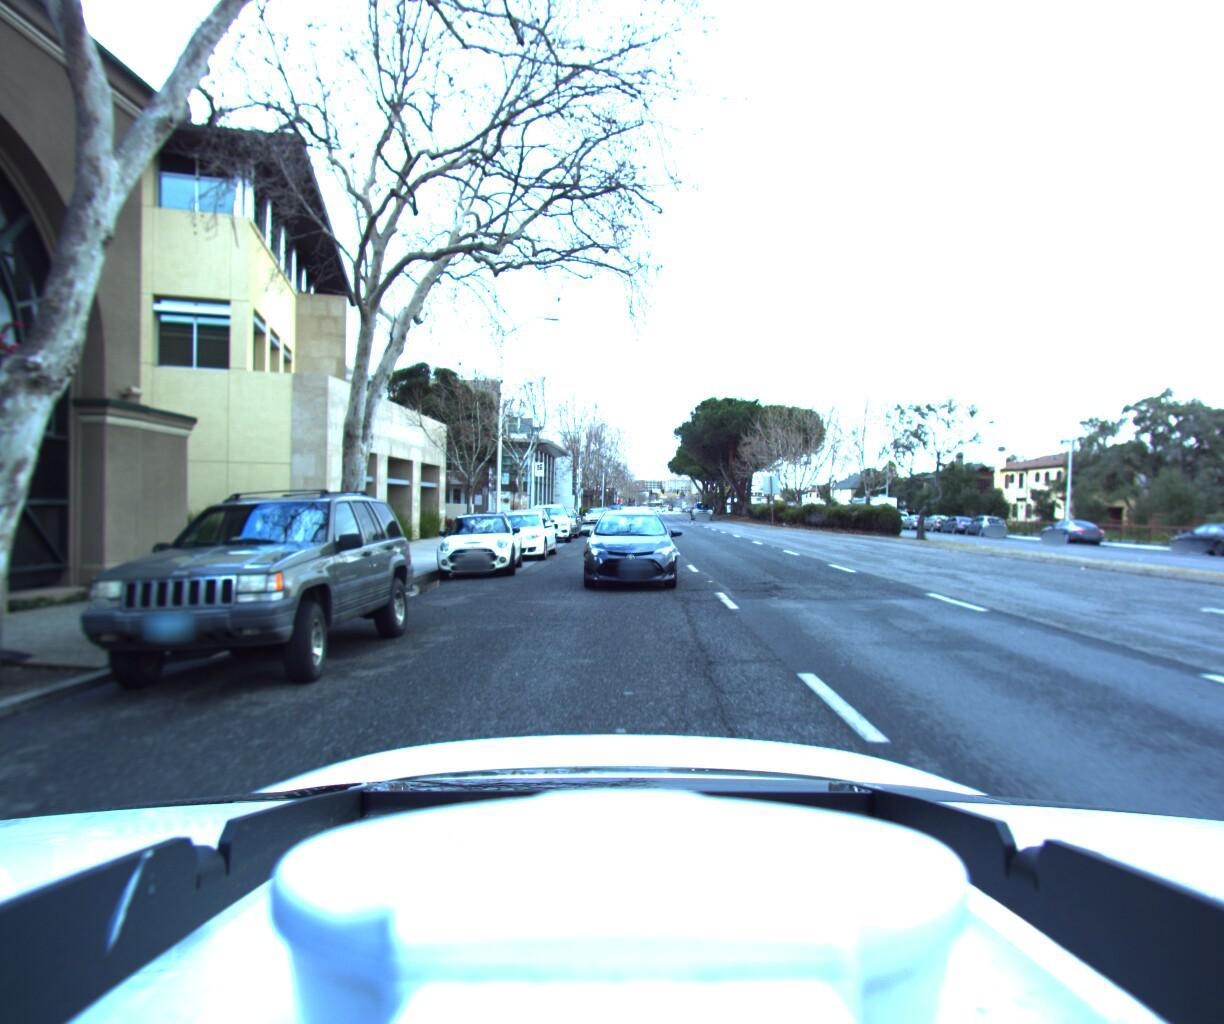car: (46, 483, 435, 713), (579, 509, 676, 597), (430, 513, 522, 579), (473, 507, 561, 564), (494, 506, 558, 555), (1166, 520, 1224, 559), (1037, 517, 1106, 546), (526, 502, 573, 544), (542, 505, 582, 540), (959, 514, 1011, 537), (936, 514, 978, 534), (917, 513, 955, 533), (879, 507, 913, 528), (690, 502, 715, 521), (583, 506, 607, 524)
